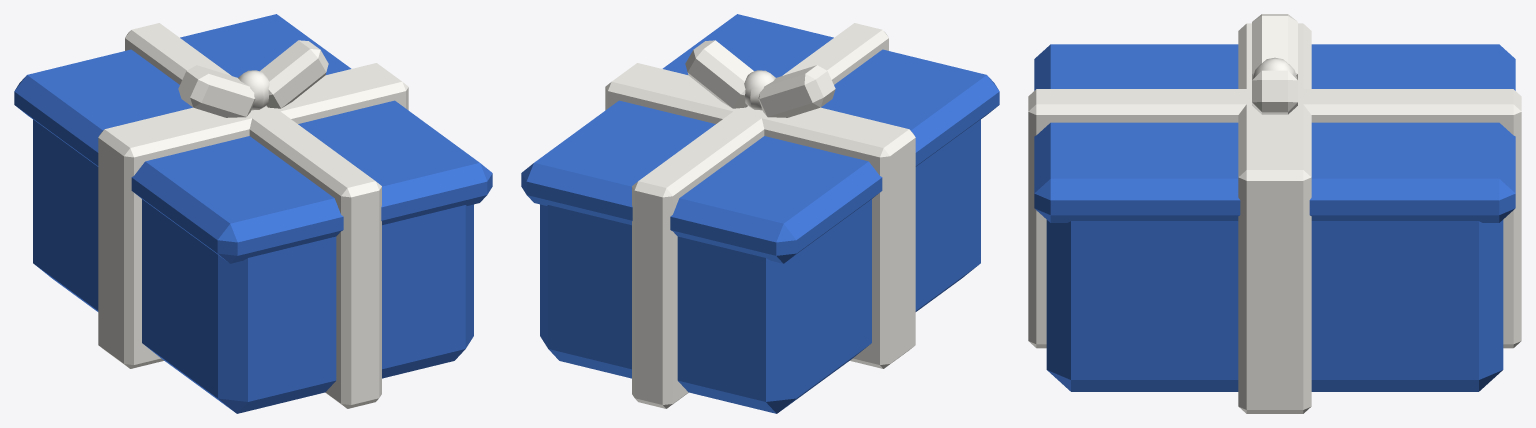
Rendered from prop_present_blue.glb.
3 views of the same model, side by side, from view 1: azimuth 30°, elevation 25°; view 2: azimuth 150°, elevation 25°; view 3: azimuth 270°, elevation 25° (orthographic). The views are drawn at different scales.
Visible parts, largest first — view 1: present_blue; view 2: present_blue; view 3: present_blue.
Part boxes in pixels (x1=…): present_blue: x1=14, y1=14, x2=492, y2=413; present_blue: x1=521, y1=14, x2=999, y2=413; present_blue: x1=1028, y1=14, x2=1521, y2=413.
Size of the model in its own units: 0.445 by 0.4023 by 0.605.
1 material, 1 textured.
